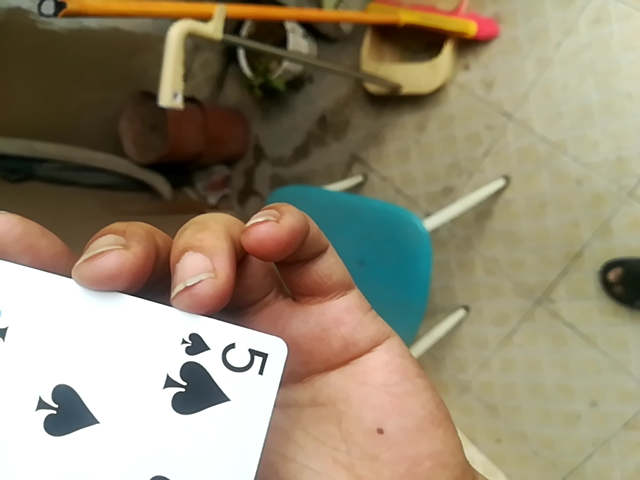ht 5: (0, 239, 292, 477)
